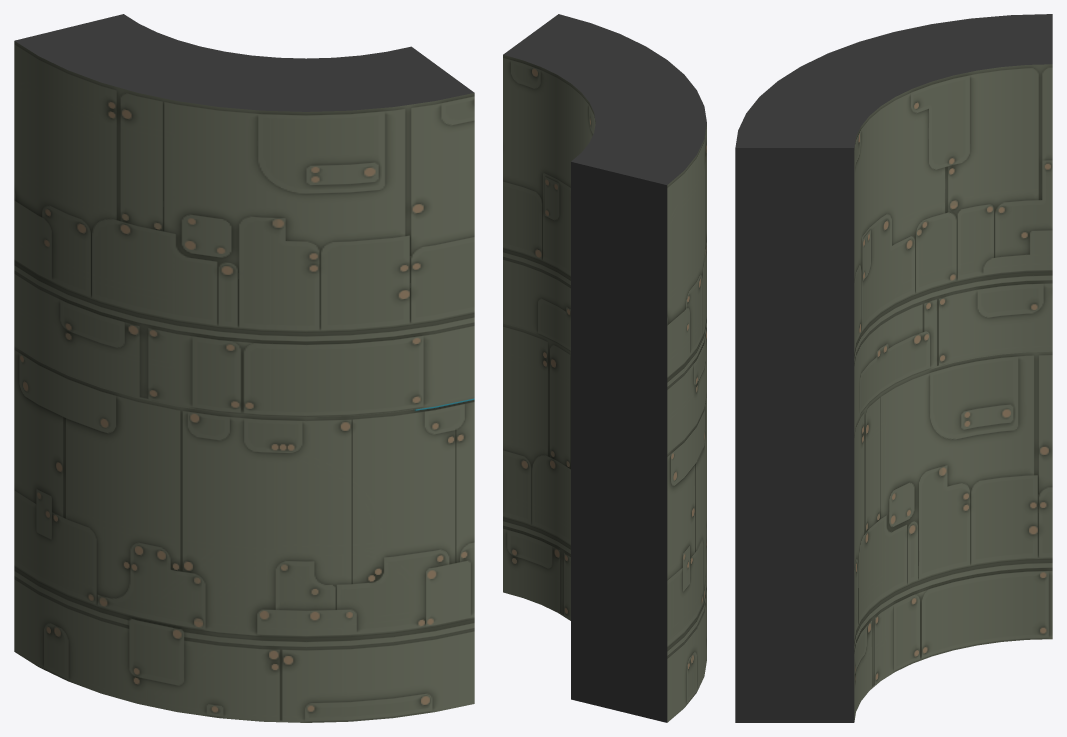
Rendered from Env_Cnt_WallExterior_OutsideCorner_Top.fbx.
3 renders of one model, left to right at view 1: azimuth 30°, elevation 25°; view 2: azimuth 150°, elevation 25°; view 3: azimuth 270°, elevation 25°, orthographic. The views are drawn at different scales.
Visible parts, largest first — view 1: Wall_Exterior_Outside_Corner_Top, Wall_Exterior_Corner; view 2: Wall_Exterior_Outside_Corner_Top, Wall_Exterior_Corner; view 3: Wall_Exterior_Outside_Corner_Top, Wall_Exterior_Corner.
Boxes of the visible parts, <box> form: Wall_Exterior_Outside_Corner_Top: <box>14,14,474,417</box>; Wall_Exterior_Corner: <box>14,346,474,722</box>; Wall_Exterior_Outside_Corner_Top: <box>503,14,706,453</box>; Wall_Exterior_Corner: <box>503,323,706,722</box>; Wall_Exterior_Outside_Corner_Top: <box>735,14,1052,435</box>; Wall_Exterior_Corner: <box>735,351,1052,722</box>.
Bounding box in the file's own units: 100 × 200 × 100.
